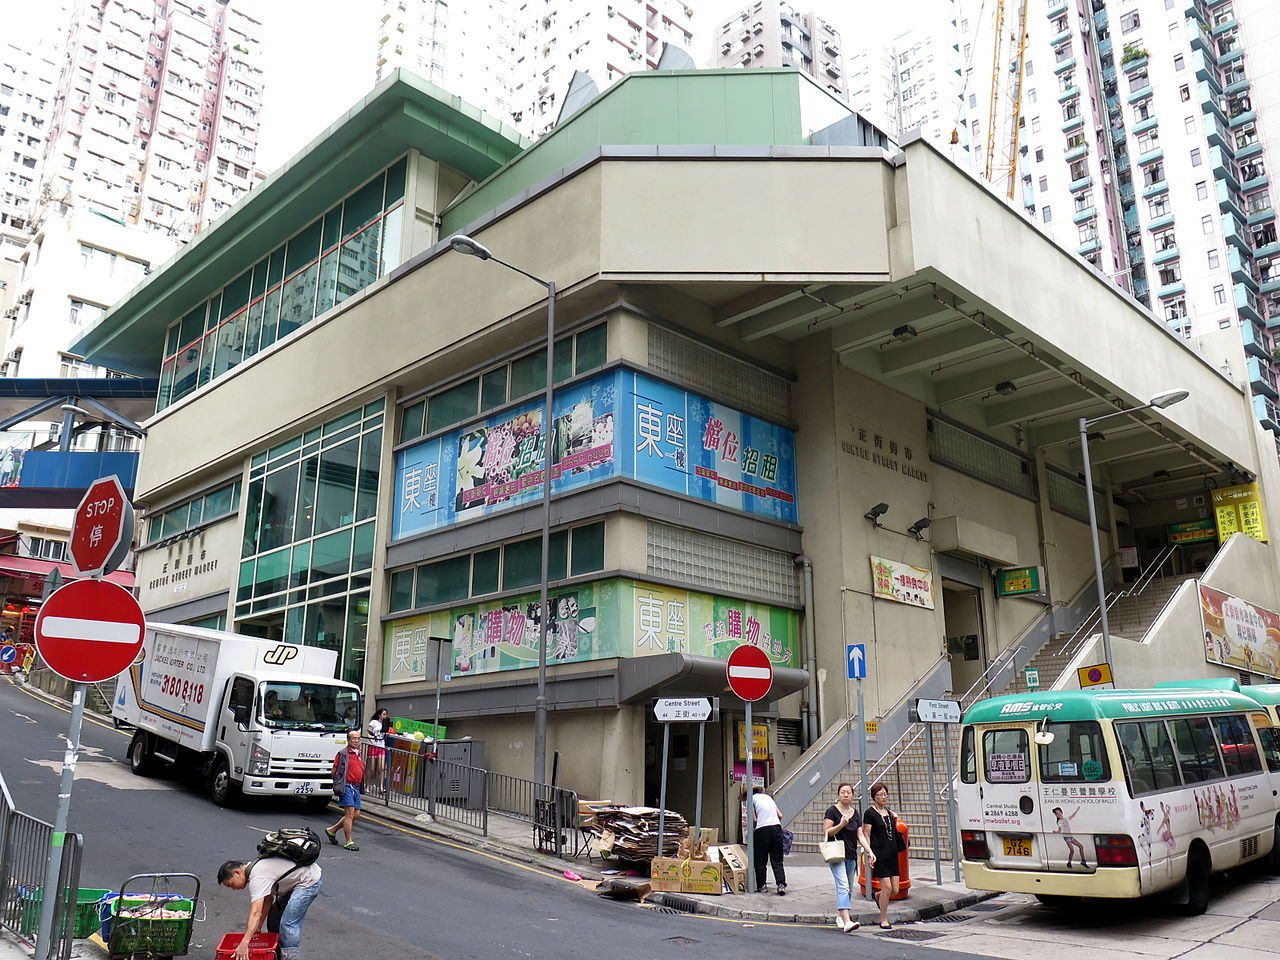No Enter: (35, 573, 142, 687)
Stop: (65, 472, 135, 565)
